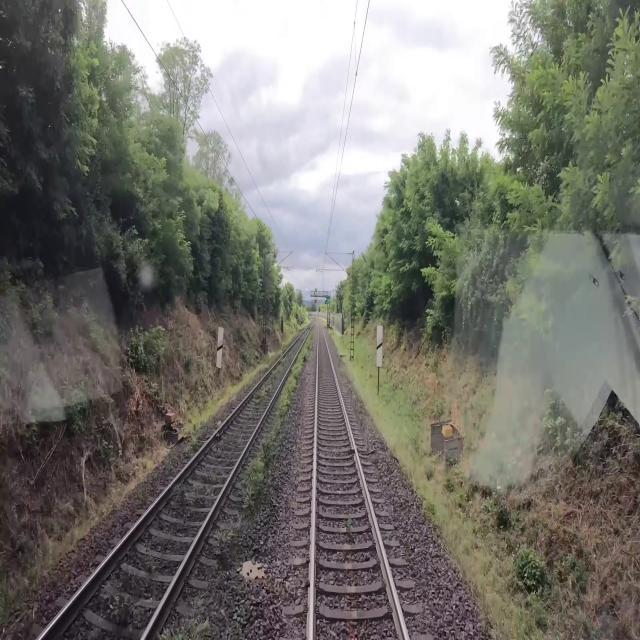Plant: (232, 327, 315, 520), (159, 524, 244, 639)
